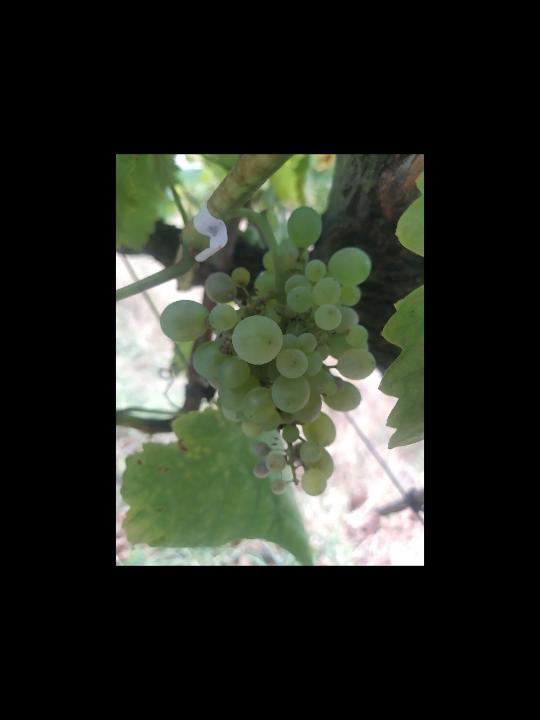grape: (158, 205, 375, 499)
